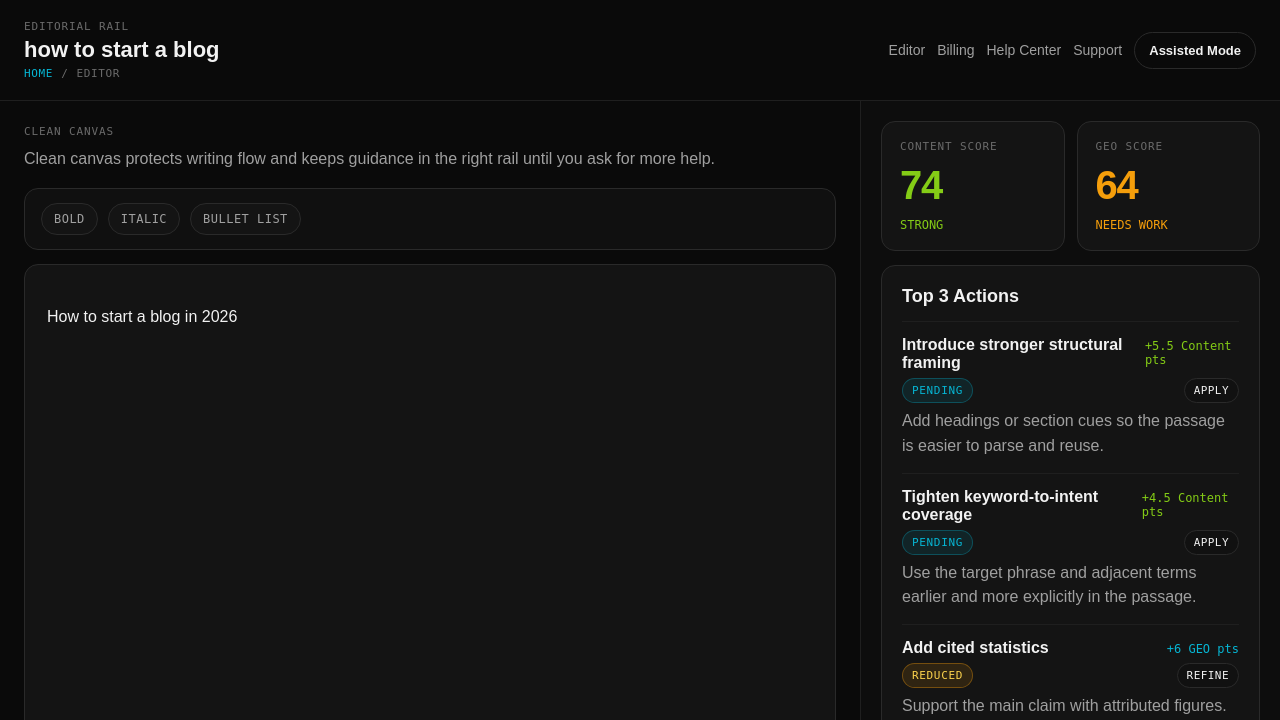
EditorRail › keeps the editor clean by default and toggles assisted mode on demand
Expected: the text "missing required terms" is not shown
Click the button "Assisted Mode": (1195, 50) [1134,32,1256,68]
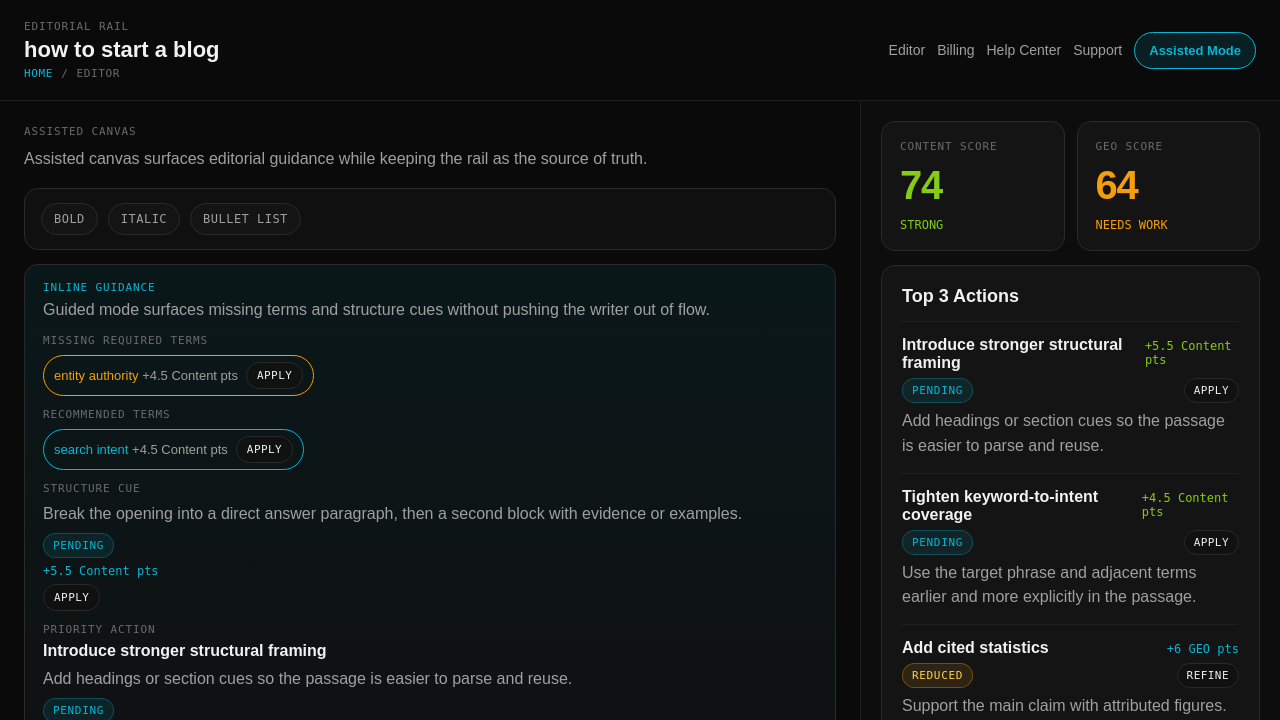
Expected: the text "Missing Required Terms" is shown, [43,334,208,347]
Expected: the text "Structure Cue" is shown, [43,482,140,495]
